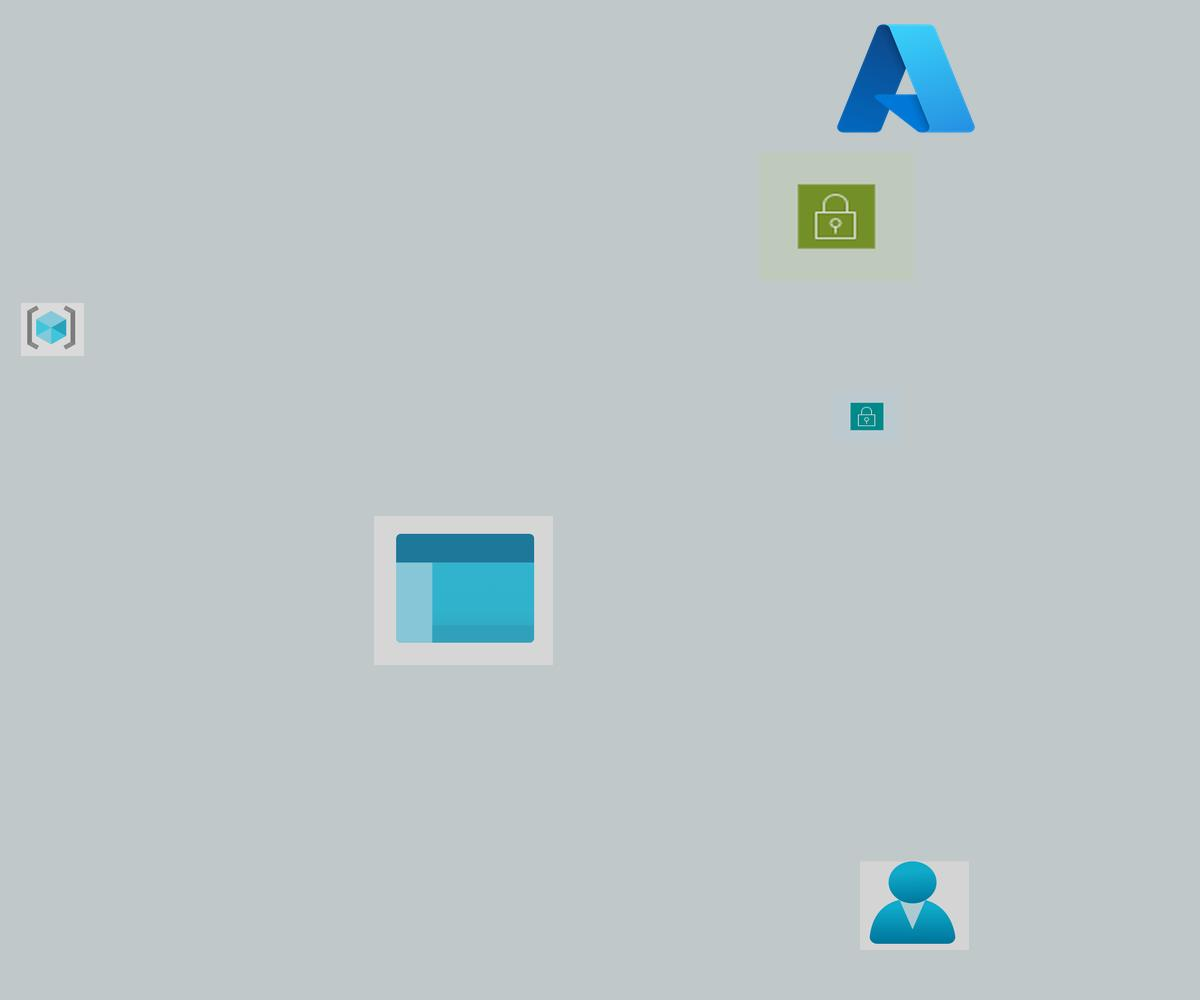AWS-Private-subnet: (834, 389, 900, 444)
AWS-Public-subnet: (759, 152, 914, 281)
Azure_management-portal: (374, 516, 553, 665)
Azure_resource_group: (21, 303, 84, 356)
Azure_services: (831, 16, 981, 141)
Azure_users: (860, 860, 969, 950)
